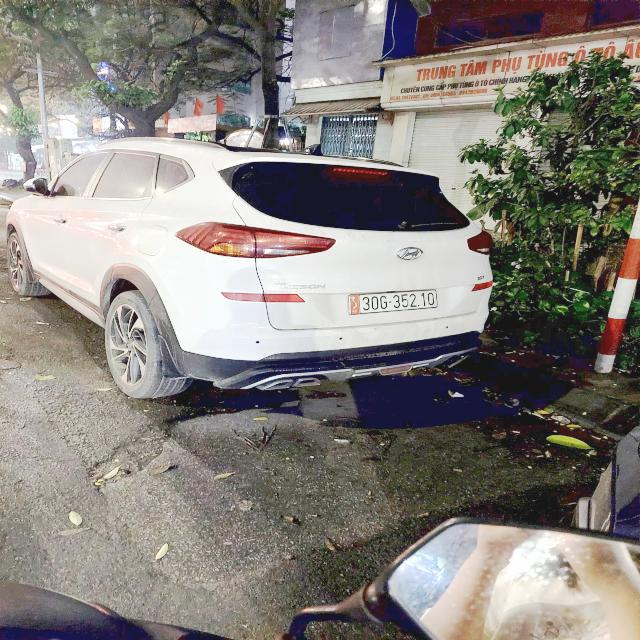license_plate: (359, 290, 441, 316)
